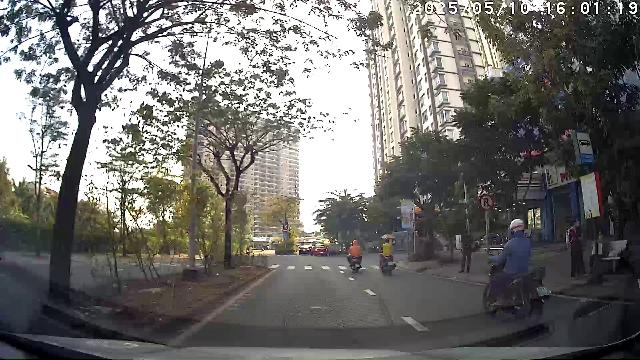124b-cam-oto-quay-dau-xe: (480, 194, 494, 210)
